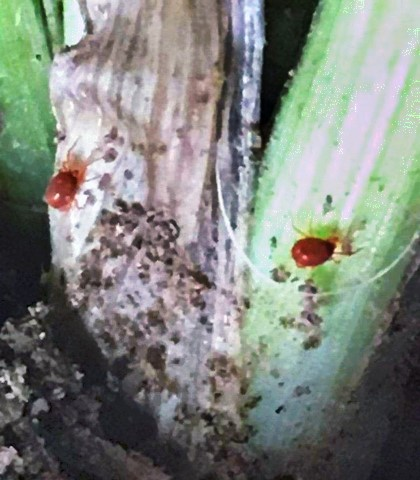Wheat Red Spider: (36, 131, 108, 226)
